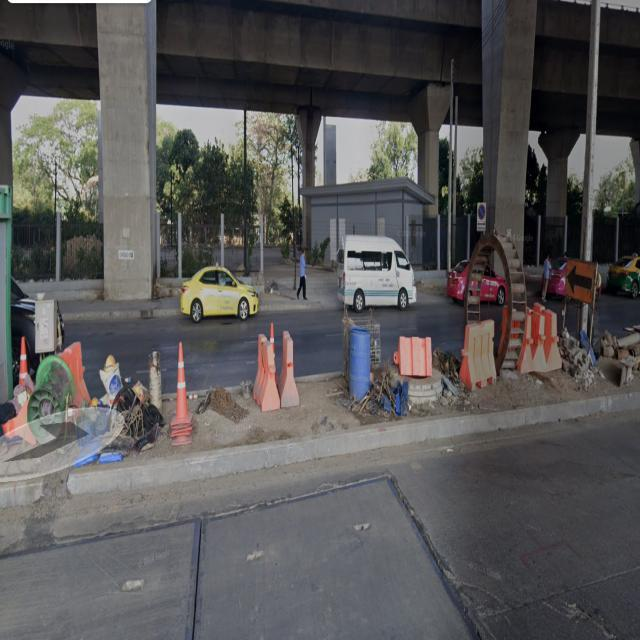fallen_object: (0, 335, 57, 443), (246, 330, 307, 416), (513, 290, 565, 387), (455, 313, 508, 395), (377, 323, 442, 389), (169, 333, 205, 445), (263, 317, 285, 380)
